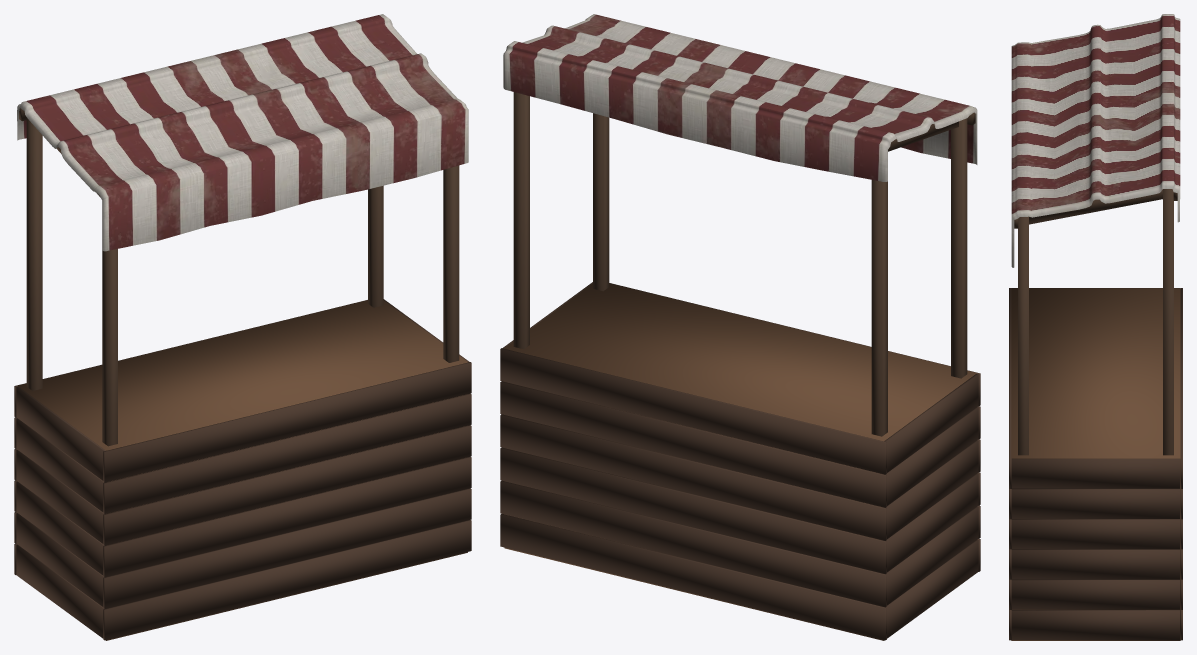
File: market-stall-b.lod0.glb
3 renders of one model, left to right at view 1: azimuth 30°, elevation 25°; view 2: azimuth 150°, elevation 25°; view 3: azimuth 270°, elevation 25°, orthographic. The views are drawn at different scales.
Visible parts, largest first — view 1: Stall_Stall_0, Stall_Stall_Fabric_0; view 2: Stall_Stall_0, Stall_Stall_Fabric_0; view 3: Stall_Stall_0, Stall_Stall_Fabric_0.
Boxes of the visible parts, box(x1,y1,x2,y2) form: Stall_Stall_0: box(14, 108, 471, 640); Stall_Stall_Fabric_0: box(17, 14, 468, 251); Stall_Stall_0: box(500, 92, 980, 640); Stall_Stall_Fabric_0: box(503, 14, 977, 181); Stall_Stall_0: box(1009, 189, 1182, 640); Stall_Stall_Fabric_0: box(1011, 14, 1180, 267).
Size of the model in its own units: 4.4 by 5.46 by 1.88.
2 materials, 1 textured.
